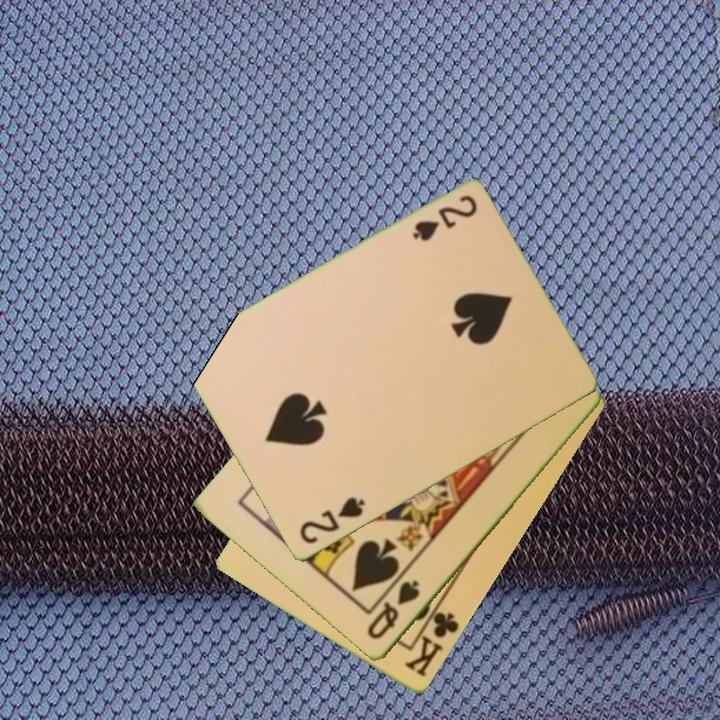2s: (296, 493, 368, 548), (408, 192, 480, 246)
Kc: (401, 599, 463, 681)
Qs: (363, 577, 423, 643)
